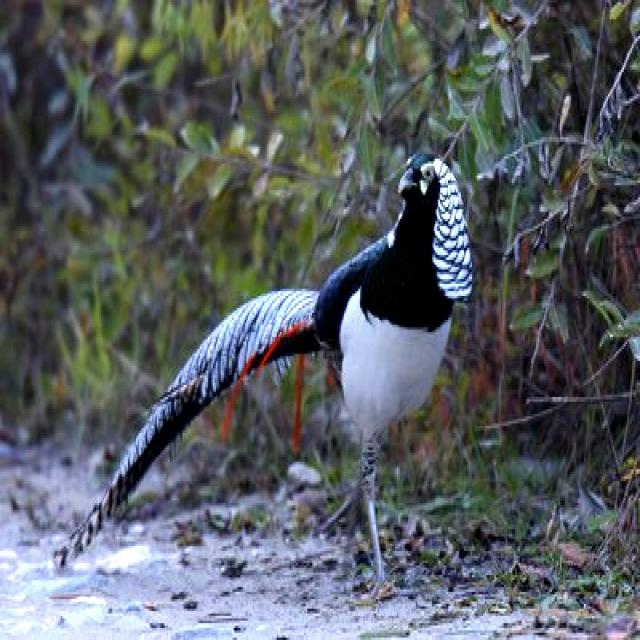Chrysolophus amherstiae: (74, 291, 317, 549)
